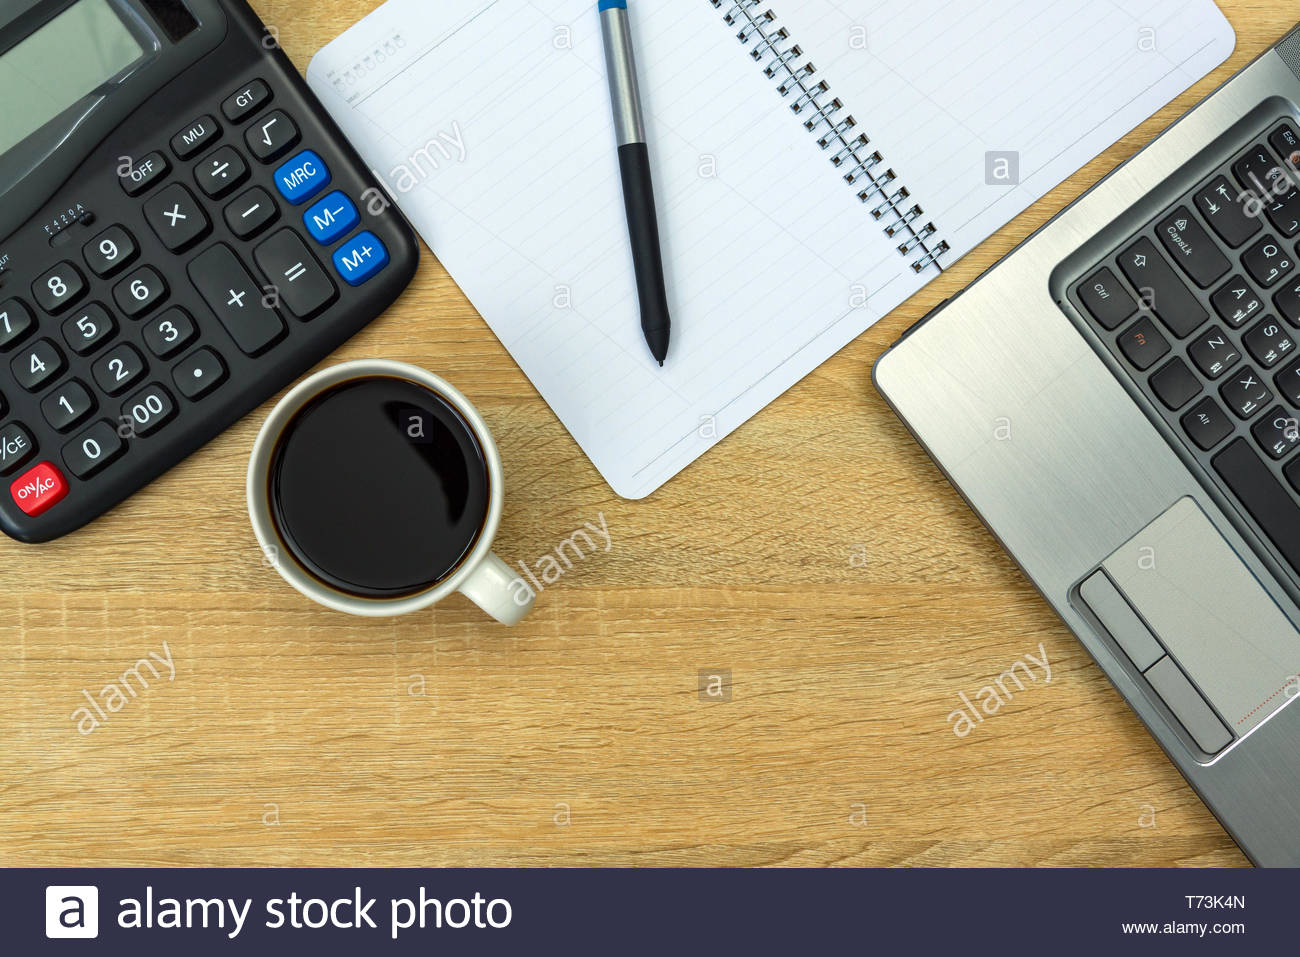Calculator: (3, 2, 422, 549)
